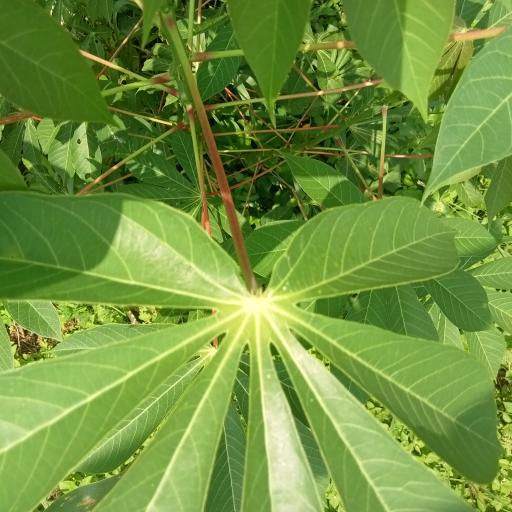Cassava_Healthy: (3, 189, 504, 512)
